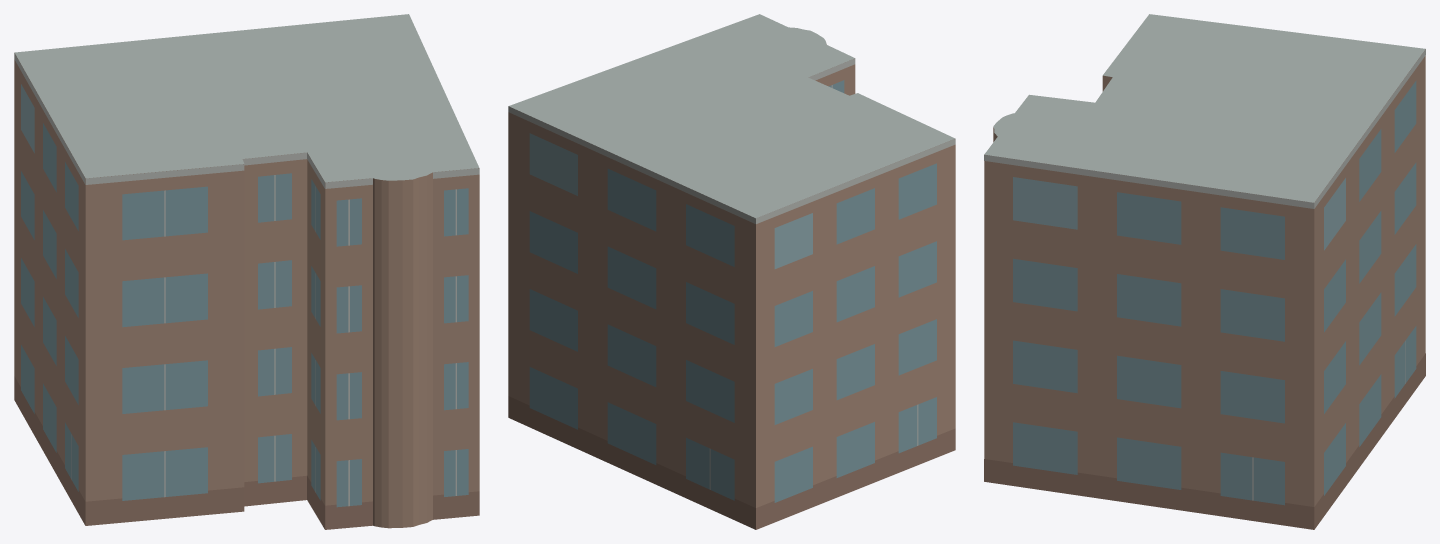
Rendered from survey-upis-32990352.glb.
3 views of the same model, side by side, from view 1: azimuth 30°, elevation 25°; view 2: azimuth 150°, elevation 25°; view 3: azimuth 270°, elevation 25° (orthographic). The views are drawn at different scales.
Visible parts, largest first — view 1: survey-upis-32990352.tmp; view 2: survey-upis-32990352.tmp; view 3: survey-upis-32990352.tmp.
Part boxes in pixels (bbox=[...]): survey-upis-32990352.tmp: bbox=[14, 14, 479, 529]; survey-upis-32990352.tmp: bbox=[508, 14, 955, 529]; survey-upis-32990352.tmp: bbox=[984, 14, 1425, 529].
Size of the model in its own units: 15.86 by 12.8 by 15.68.
